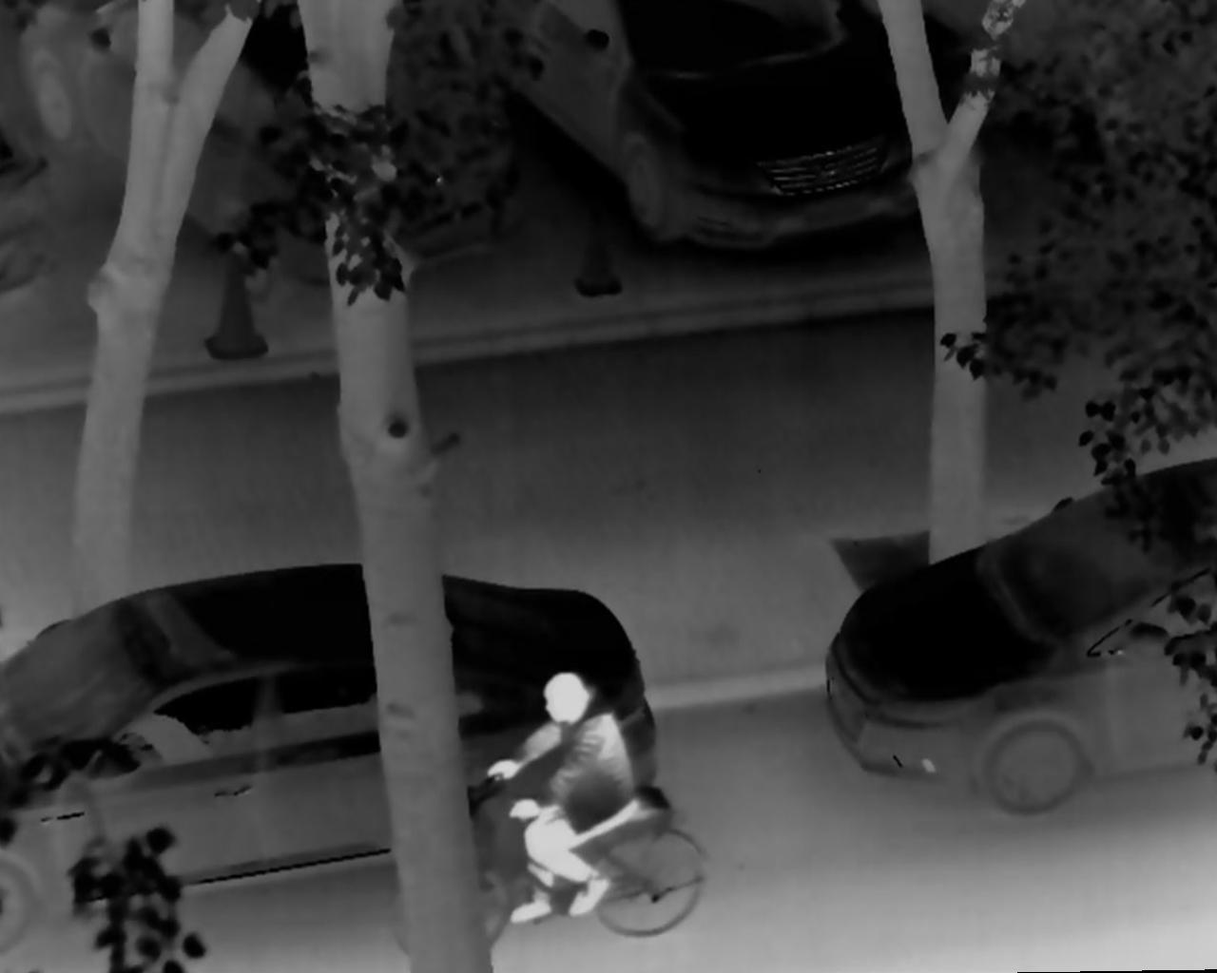person: (481, 664, 641, 925)
